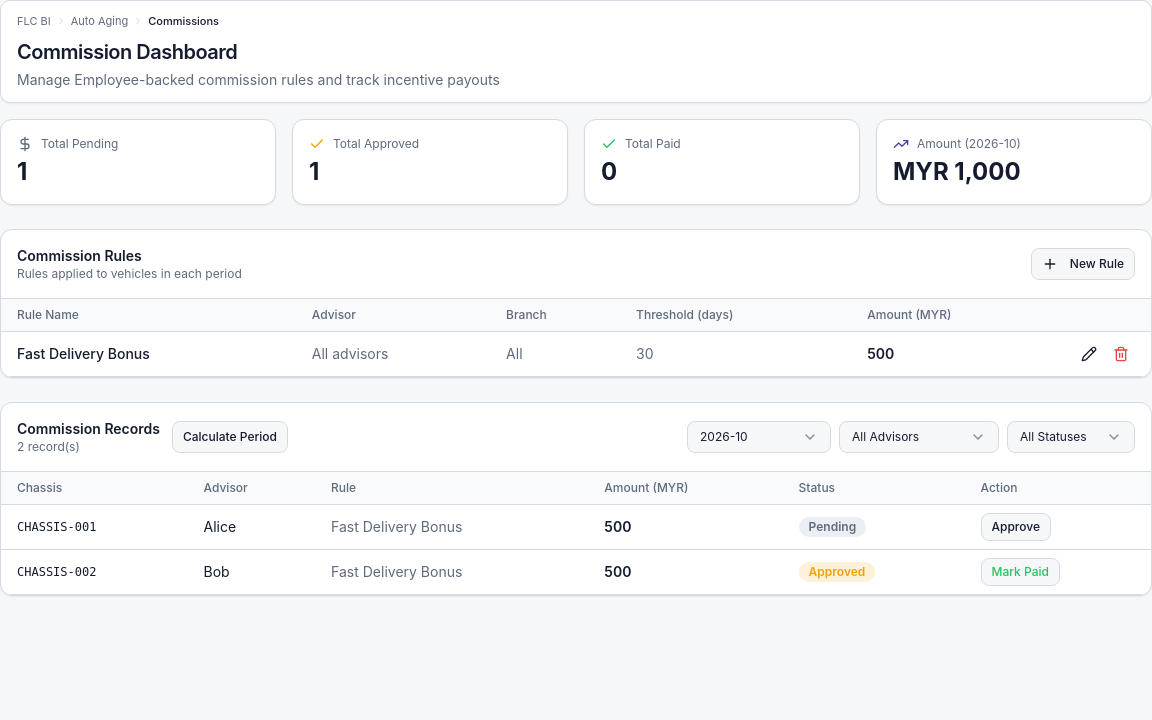
CommissionDashboard › approves pending commission records and updates the row actions
Expected: the text "CHASSIS-001" is shown, 1,504 -> 188,549
Click the button "Approve" at [1016, 526], box 980,512 -> 1051,540
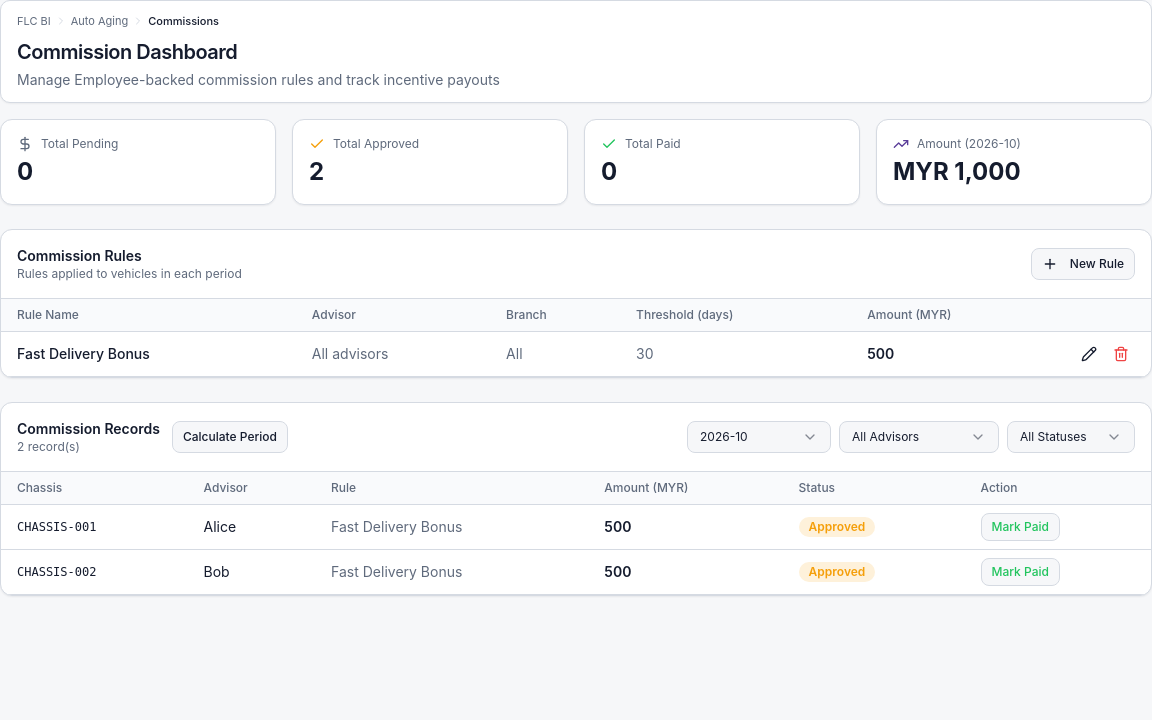
Expected: the text "approved" in the row of "CHASSIS-001" is shown, 809,519 -> 865,534
Expected: the button "Mark Paid" in the row of "CHASSIS-001" is shown, 980,512 -> 1060,540
